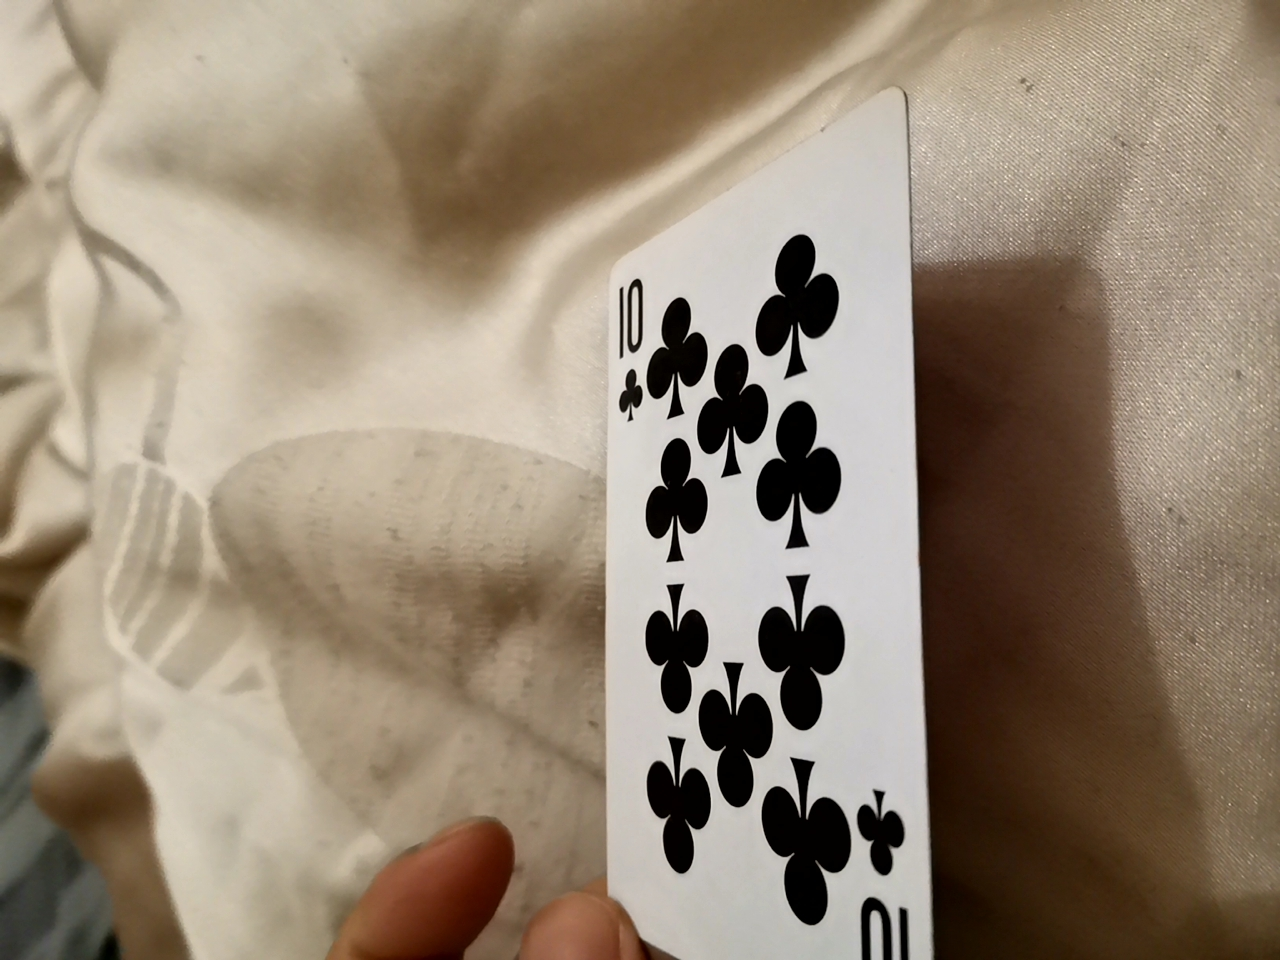mh 10: (593, 149, 933, 956)
